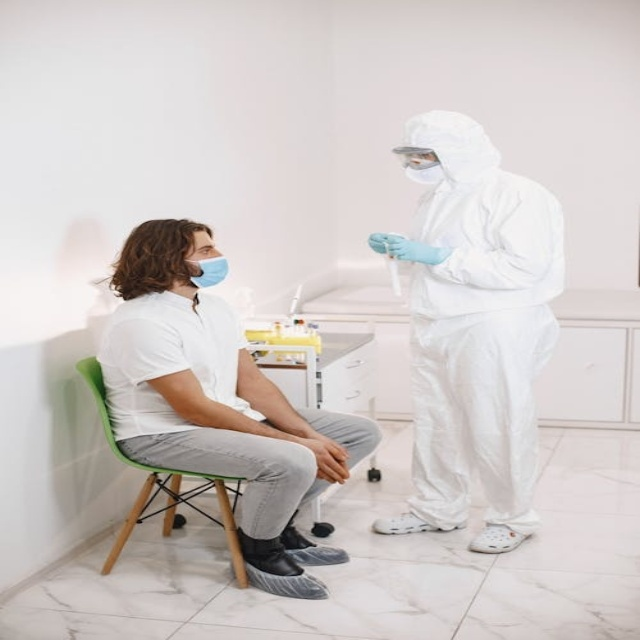Gafas: (392, 143, 442, 169)
Guantes: (364, 228, 442, 265)
Mascara: (186, 256, 230, 288), (403, 159, 446, 185)
Sin_gafas: (192, 243, 219, 253)
Sin_guantes: (294, 435, 354, 482)
